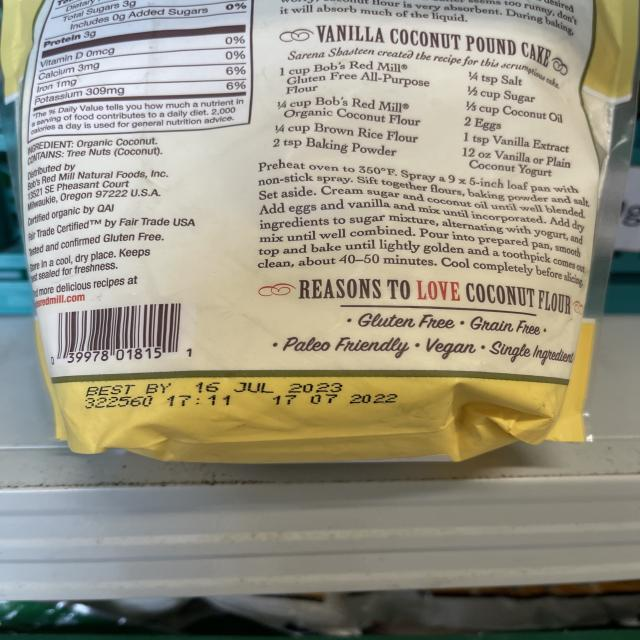object_name: (5, 2, 580, 450)
